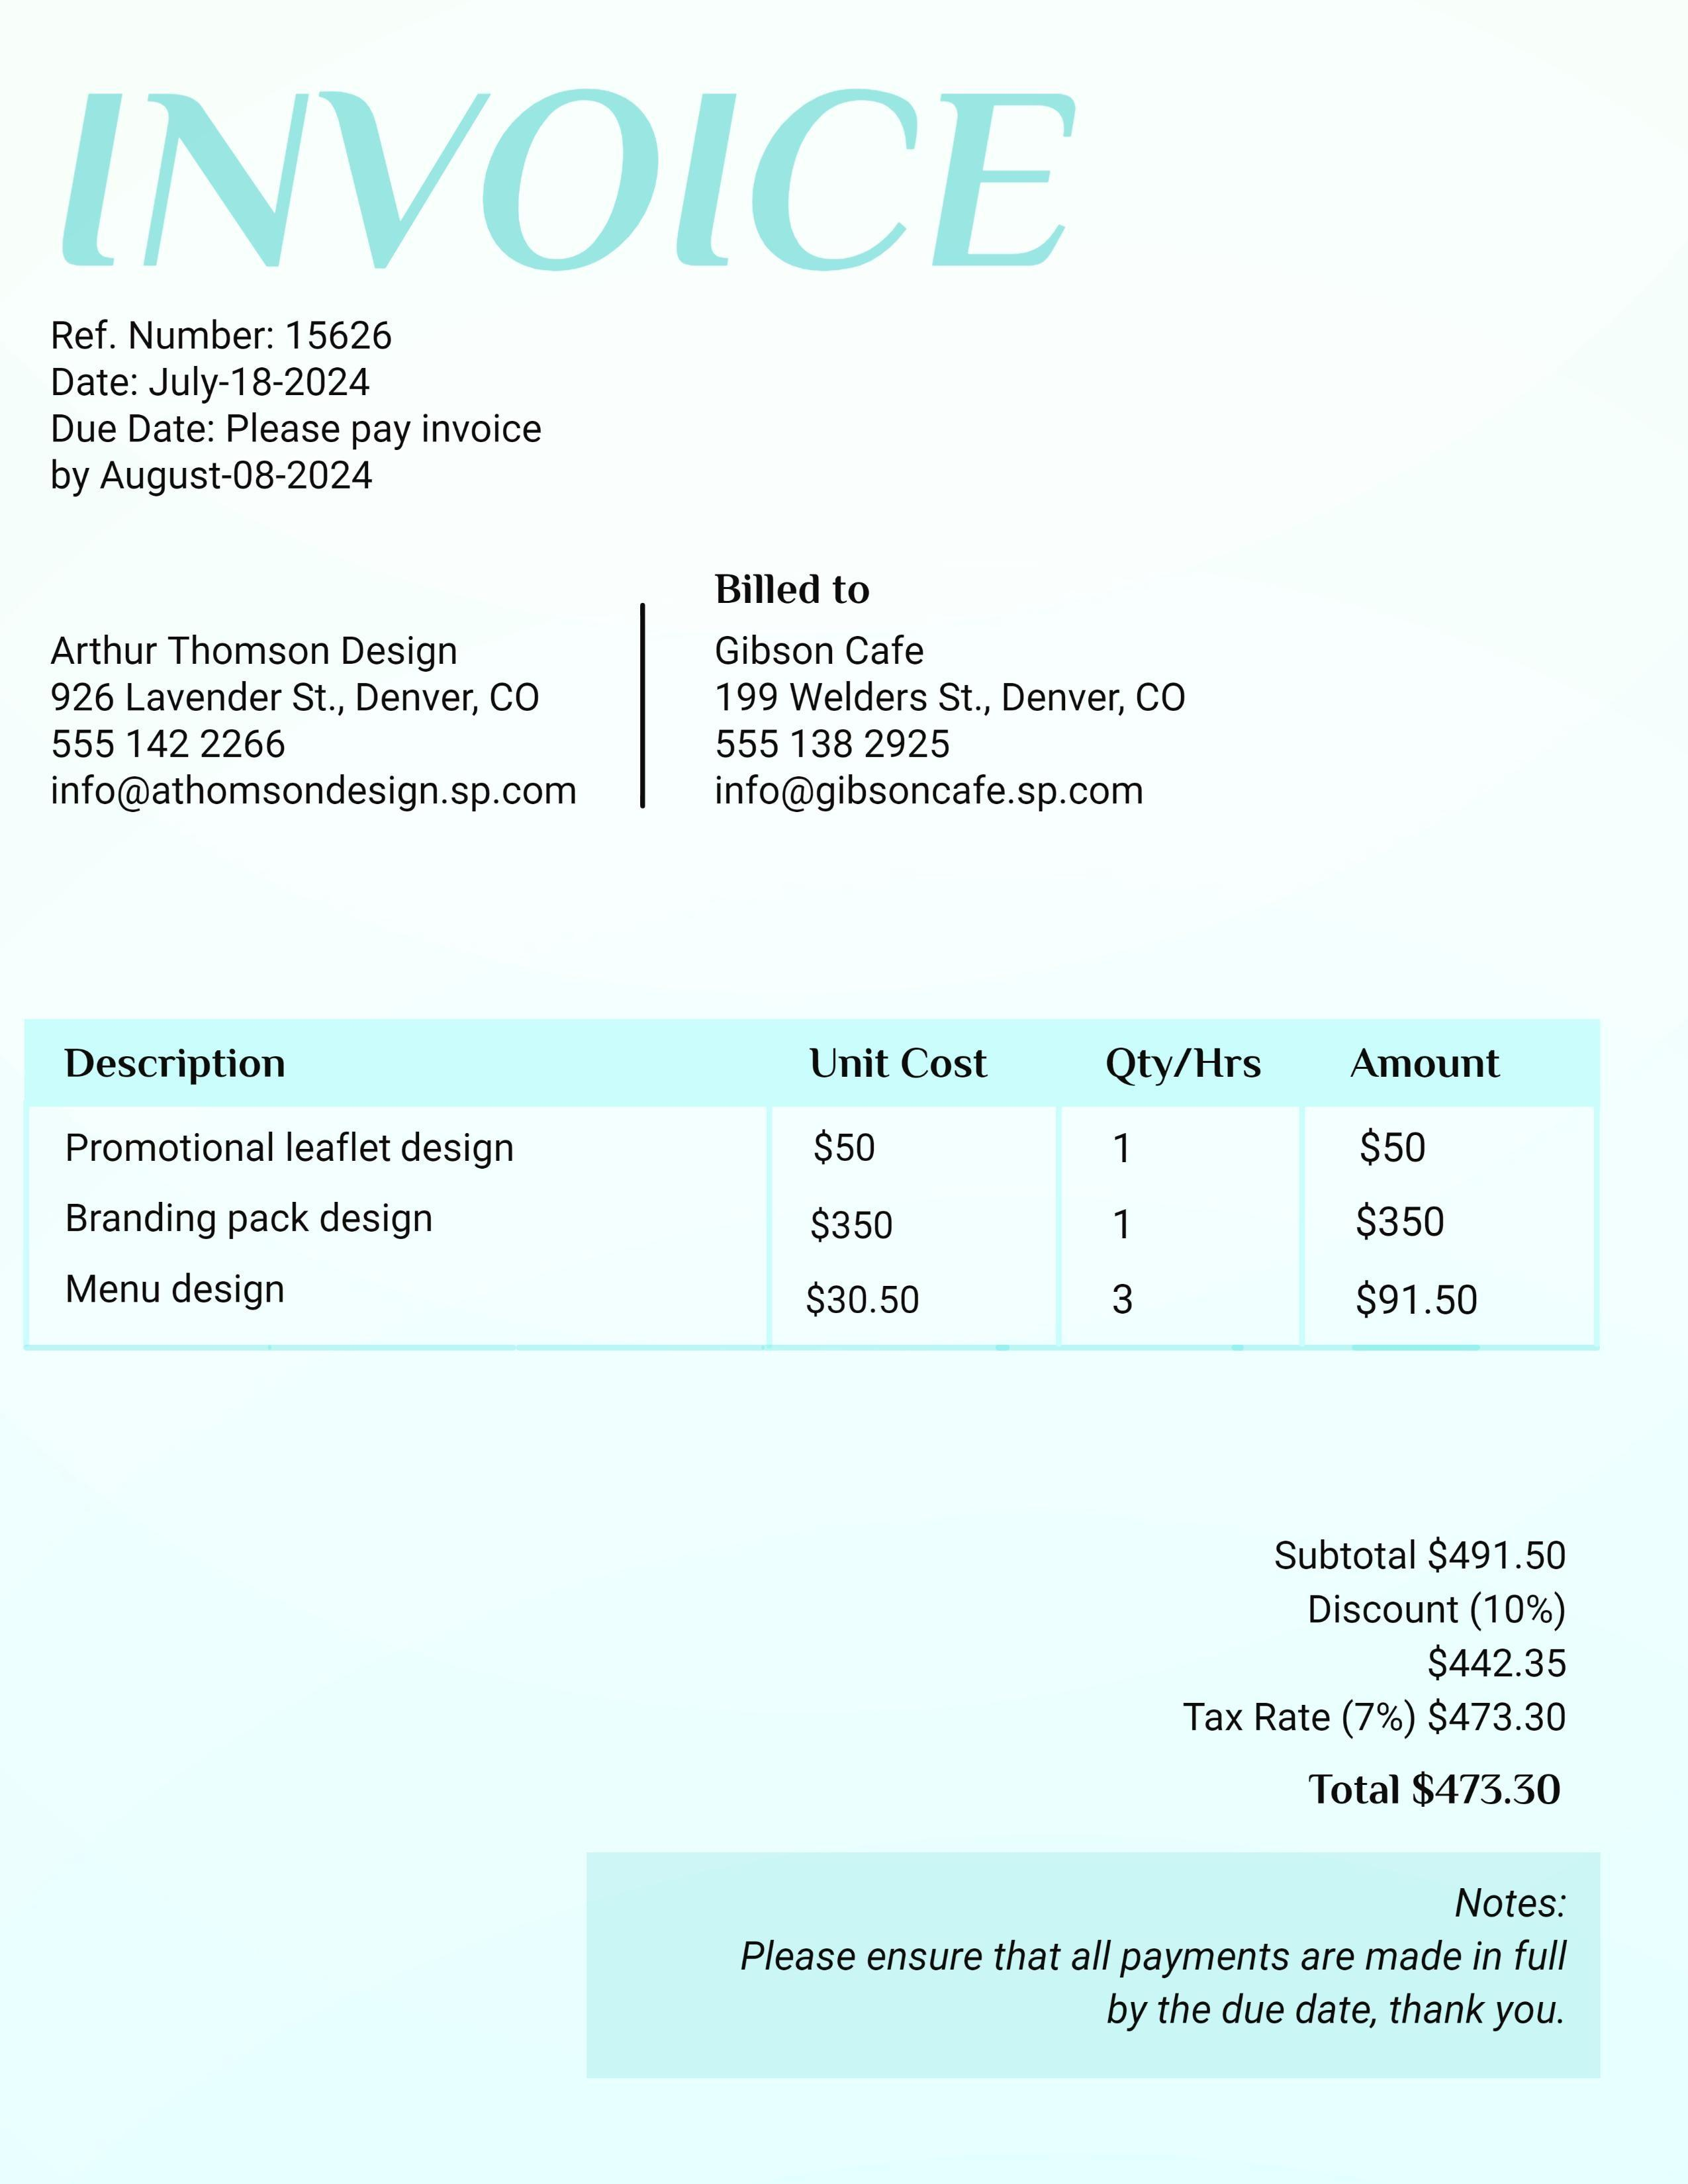ROI: (27, 1016, 1596, 1349), (35, 578, 621, 815), (690, 564, 1213, 819), (43, 300, 587, 519), (1183, 1525, 1583, 1815), (731, 1923, 1589, 1980)
